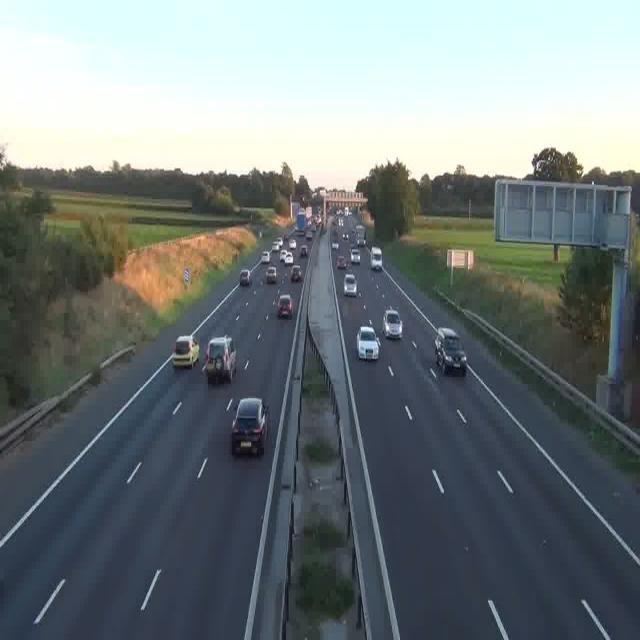car: (230, 397, 268, 456), (434, 327, 467, 376), (205, 337, 236, 382), (171, 335, 199, 370), (356, 326, 379, 358), (382, 308, 402, 338), (276, 294, 292, 318), (344, 275, 358, 294), (238, 268, 250, 286), (266, 265, 278, 282), (290, 266, 302, 282), (338, 254, 348, 270), (350, 249, 360, 264), (261, 251, 272, 264), (282, 251, 292, 265), (299, 245, 308, 258), (332, 238, 340, 249)
truck: (368, 244, 383, 273), (354, 226, 366, 248), (301, 211, 311, 230)
